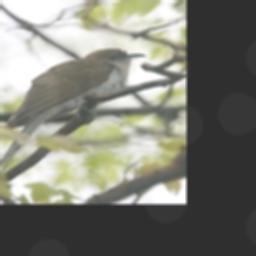Cuckoo: (0, 47, 145, 179)
